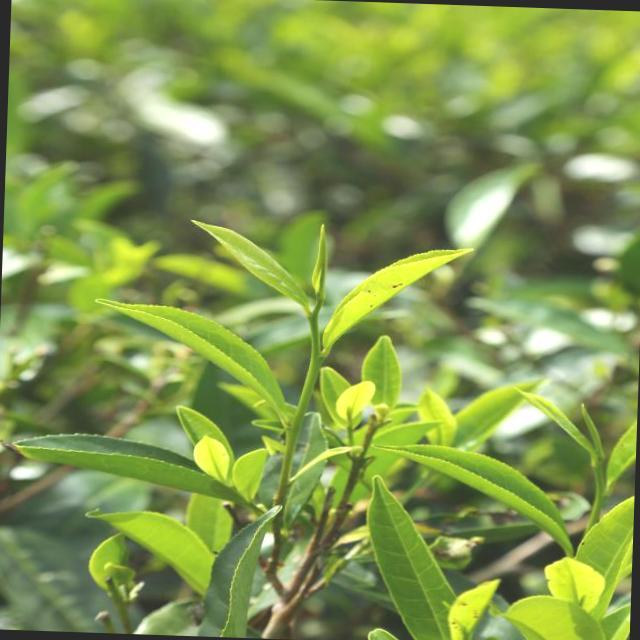Stem: (312, 350, 324, 363), (597, 489, 608, 501)
